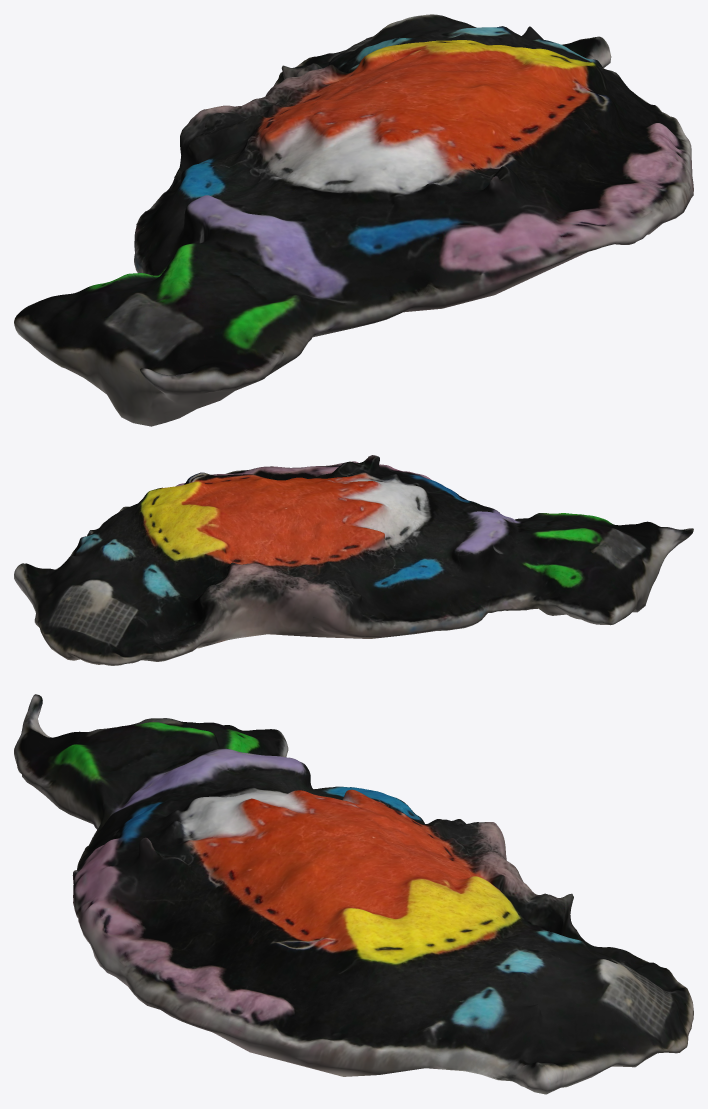
3 renders of one model, top to bottom at view 1: azimuth 30°, elevation 25°; view 2: azimuth 150°, elevation 25°; view 3: azimuth 270°, elevation 25°, orthographic. The views are drawn at different scales.
Bounding box in the file's own units: 0.93 × 0.1953 × 0.776.
Materials: 1 (1 with a texture image).
